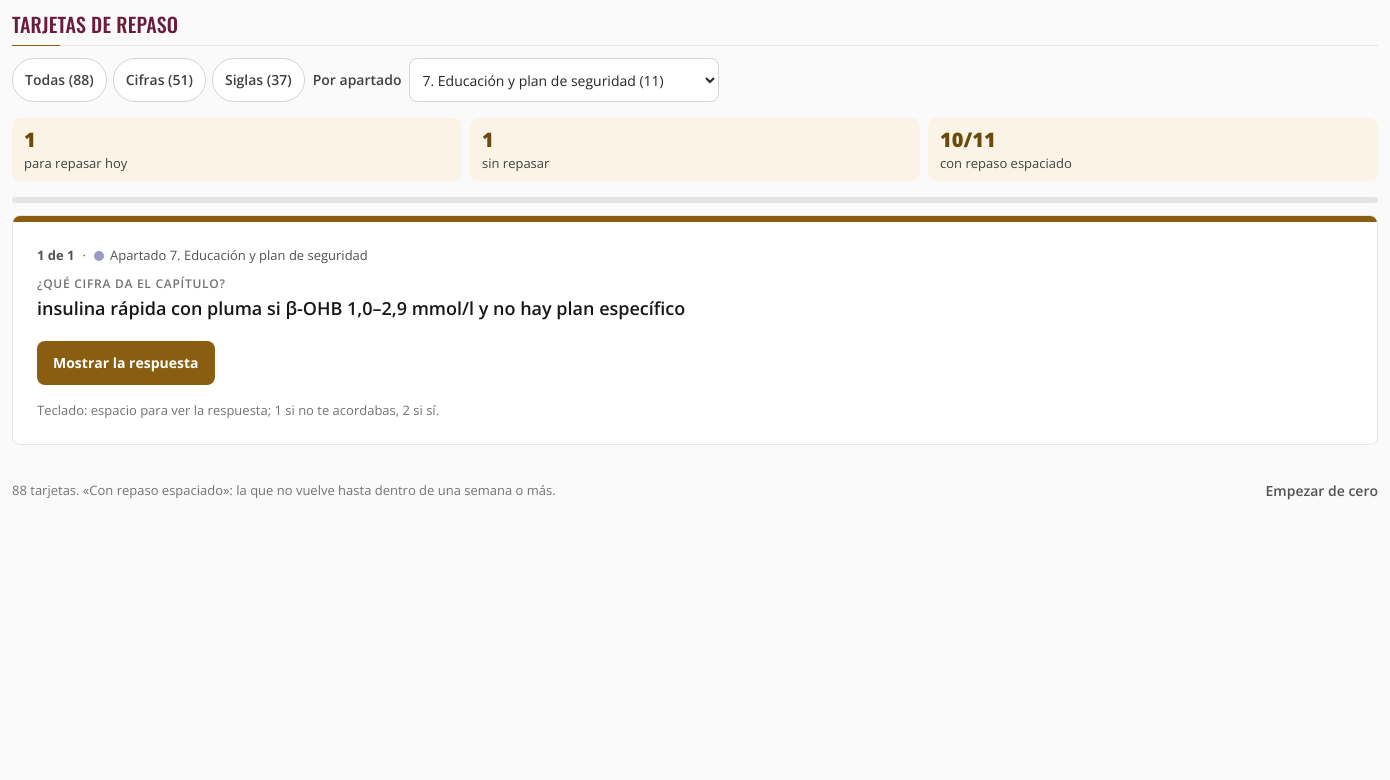
Test: pantalla de tarjetas › una cifra con asterisco enseña la nota de la Figura 3
Click the button "Mostrar la respuesta".
click(126, 362)  # box [37, 340, 214, 384]
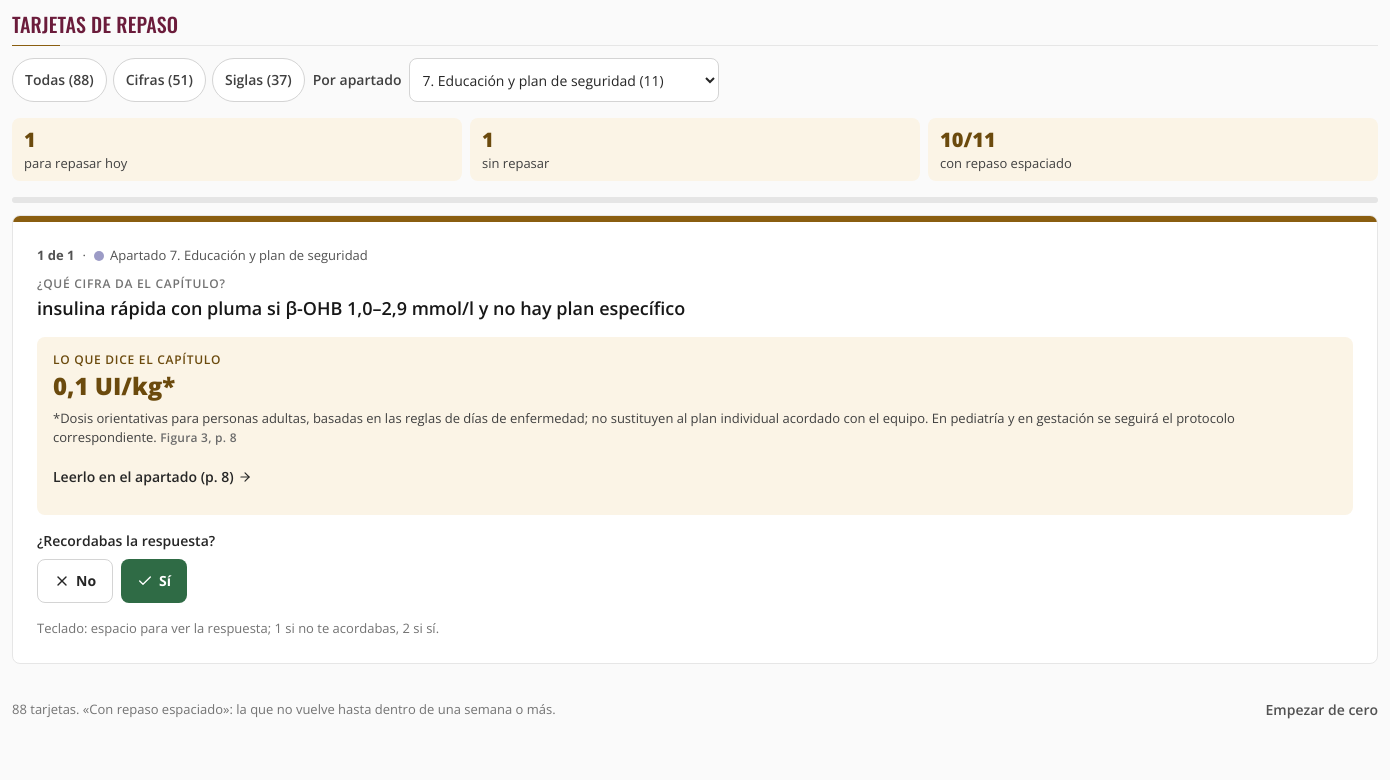
Expected: the text "Dosis orientativas" is shown, [53, 409, 1235, 446]
